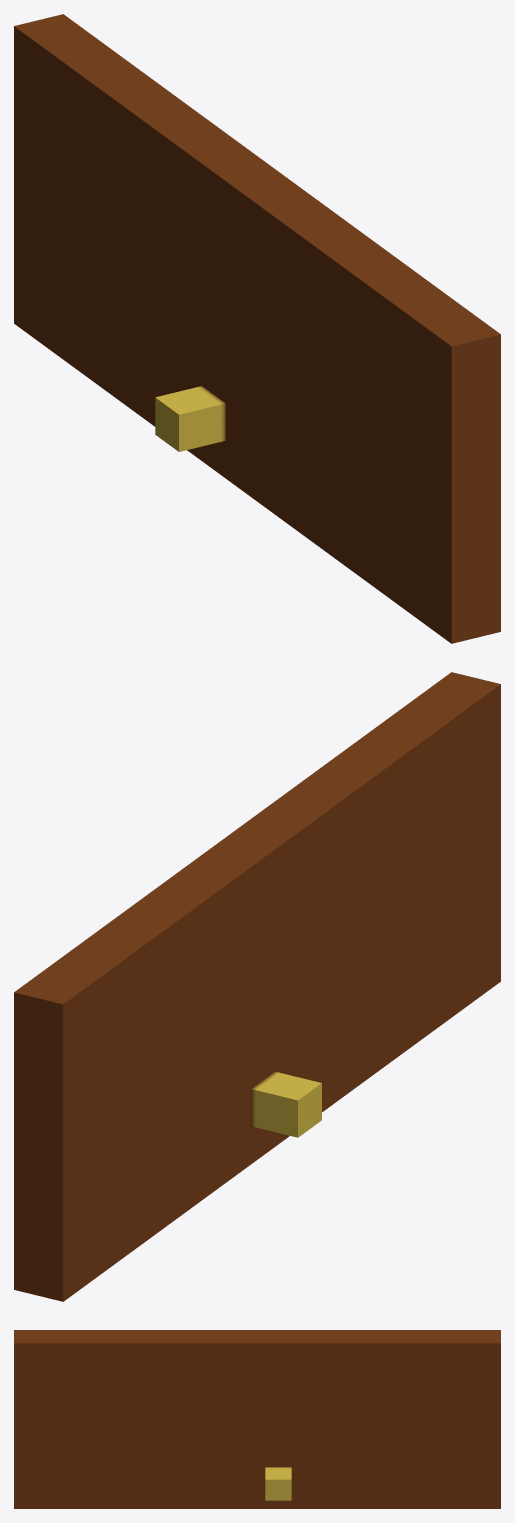
The model's file is Obj.Door.glb.
The picture shows the model from 3 angles, top to bottom: view 1: azimuth 30°, elevation 25°; view 2: azimuth 150°, elevation 25°; view 3: azimuth 270°, elevation 25°; orthographic projection. The views are drawn at different scales.
Parts seen in each view (by area): view 1: Door; view 2: Door; view 3: Door.
Part boxes in pixels (left/top/right/bottom): Door: left=14, top=14, right=500, bottom=643; Door: left=14, top=672, right=500, bottom=1301; Door: left=14, top=1330, right=500, bottom=1508.
Size of the model in its own units: 0.3831 by 0.762 by 2.03.
